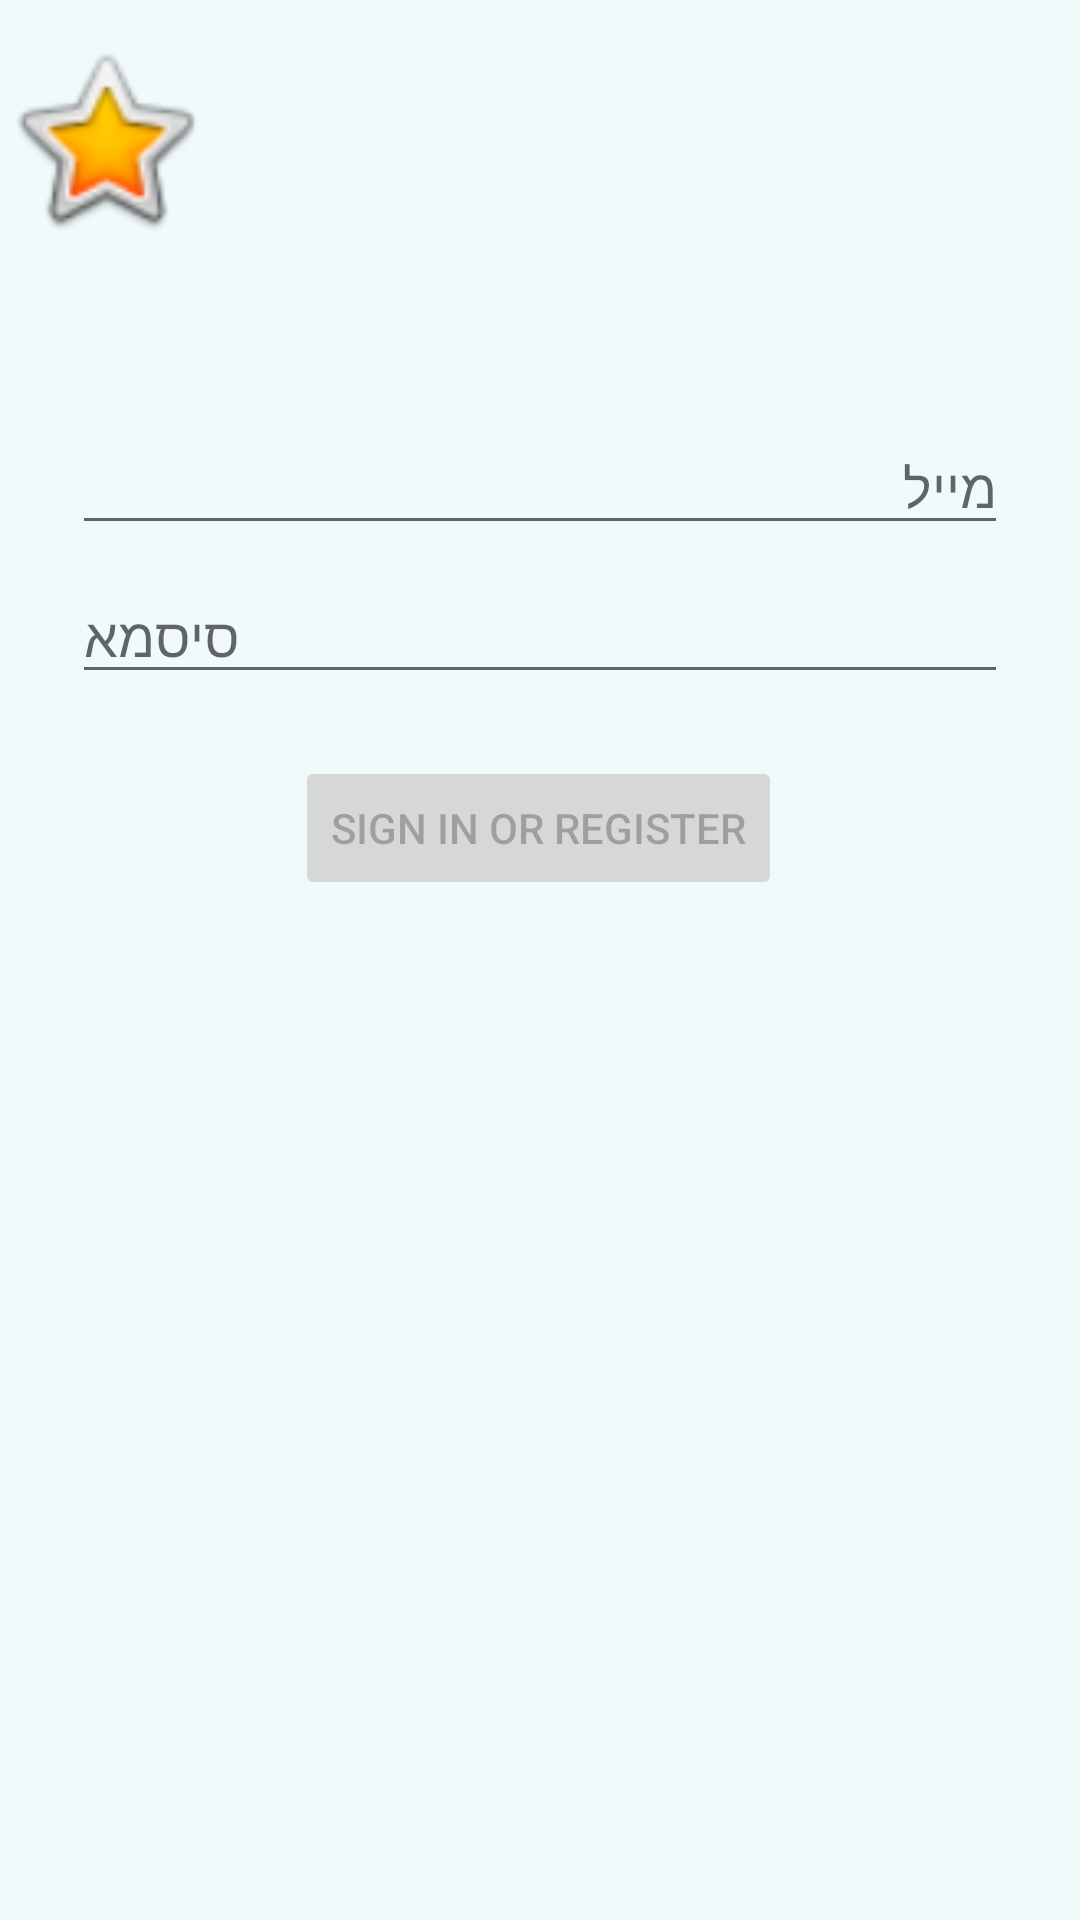

Icon bounding boxes for this 1080 × 1920 phone screenshot, format [x1, y1, x2, y2]:
star on: [19, 56, 195, 227]
